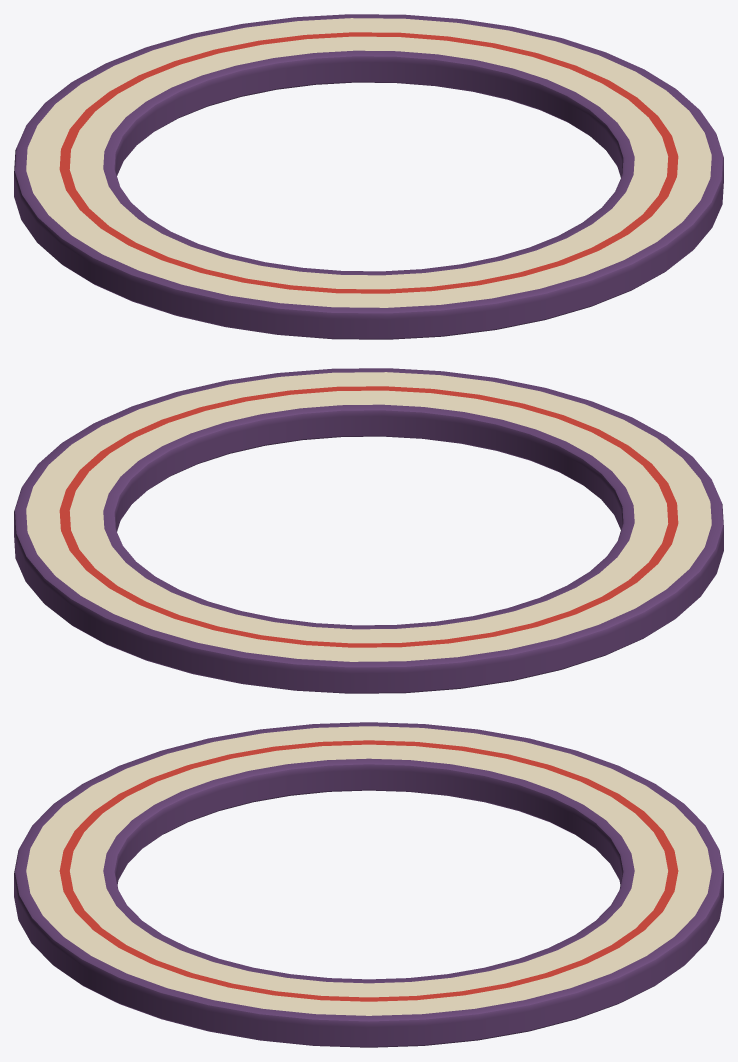
File: sumo_ring_2.glb
3 renders of one model, top to bottom at view 1: azimuth 30°, elevation 25°; view 2: azimuth 150°, elevation 25°; view 3: azimuth 270°, elevation 25°, orthographic.
Visible parts, largest first — view 1: sumo_ring_2; view 2: sumo_ring_2; view 3: sumo_ring_2.
Part boxes in pixels (x1,y1,x2,y2): sumo_ring_2: (14,14,723,339); sumo_ring_2: (14,368,723,693); sumo_ring_2: (14,722,723,1047).
Bounding box in the file's own units: 14 × 0.6 × 14.
